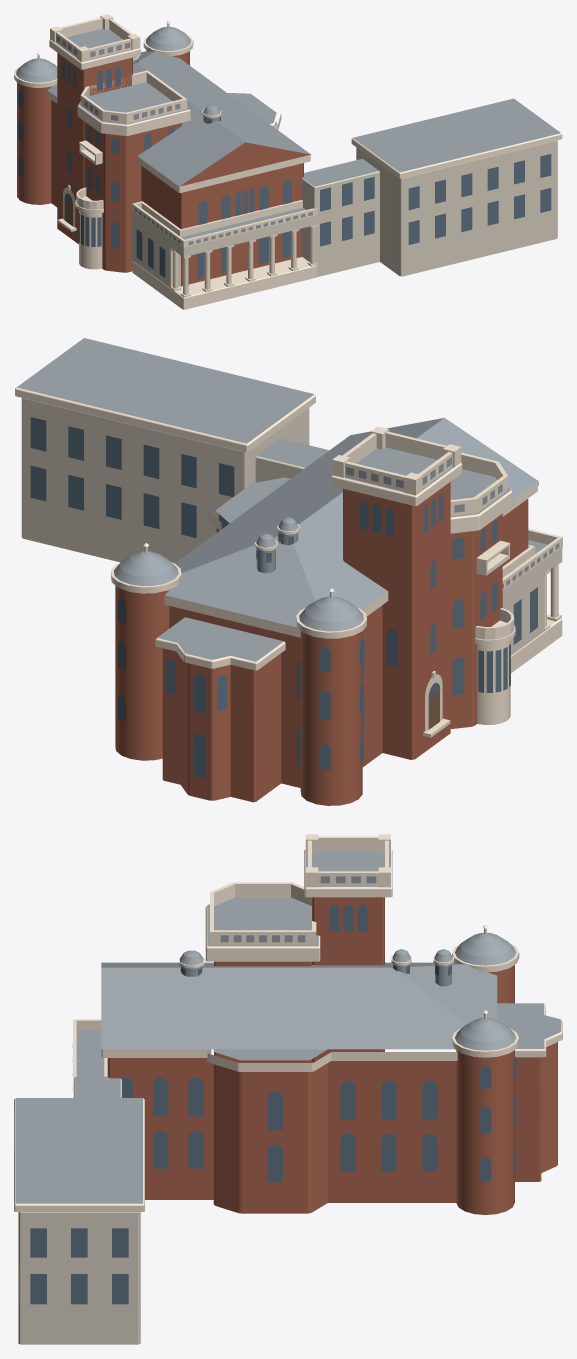
File: nyc-litchfield-villa.glb
3 views of the same model, one above another, from view 1: azimuth 30°, elevation 25°; view 2: azimuth 150°, elevation 25°; view 3: azimuth 270°, elevation 25° (orthographic). The views are drawn at different scales.
Parts seen in each view (by area): view 1: Litchfield Villa; view 2: Litchfield Villa; view 3: Litchfield Villa.
Part boxes in pixels (x1=…): Litchfield Villa: x1=14, y1=14, x2=562, y2=309; Litchfield Villa: x1=15, y1=338, x2=562, y2=805; Litchfield Villa: x1=14, y1=834, x2=562, y2=1344.
Size of the model in its own units: 43.58 by 21.1 by 39.23.
